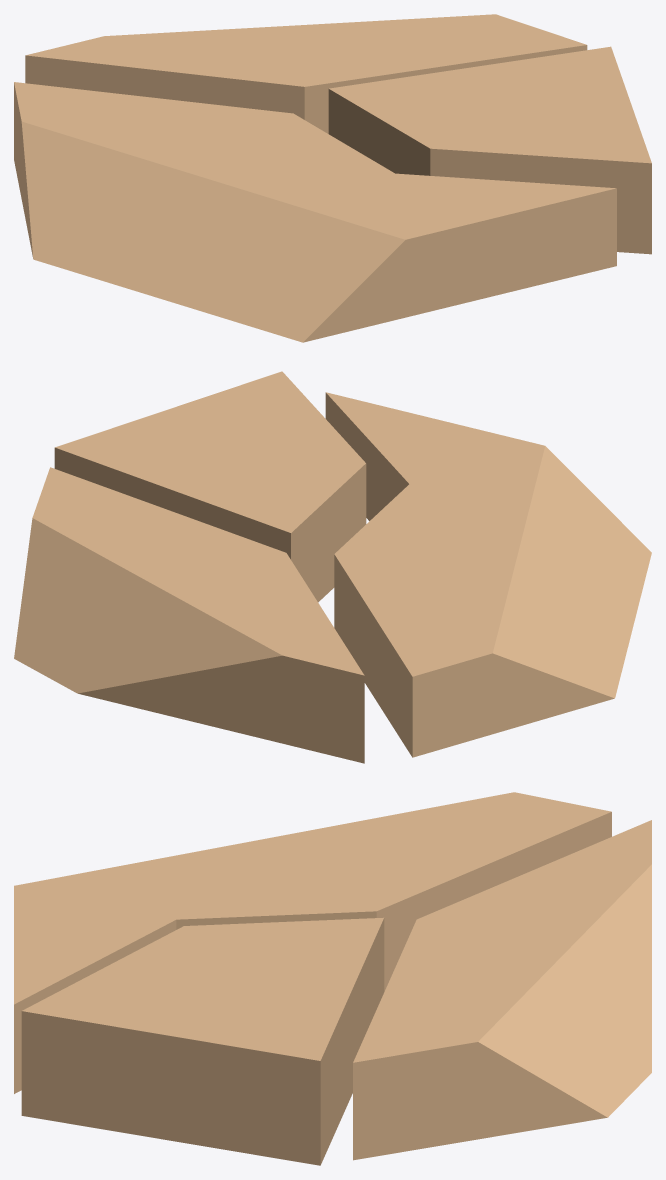
The model's file is Rock_Flat_crk_s_02.fbx.
3 renders of one model, top to bottom at view 1: azimuth 30°, elevation 25°; view 2: azimuth 150°, elevation 25°; view 3: azimuth 270°, elevation 25°, orthographic. The views are drawn at different scales.
Parts seen in each view (by area): view 1: Rock_Flat_crk_s_02; view 2: Rock_Flat_crk_s_02; view 3: Rock_Flat_crk_s_02.
Boxes of the visible parts, x1=… form: Rock_Flat_crk_s_02: x1=14, y1=14, x2=651, y2=342; Rock_Flat_crk_s_02: x1=14, y1=371, x2=651, y2=763; Rock_Flat_crk_s_02: x1=14, y1=792, x2=651, y2=1165.
Bounding box in the file's own units: 78.85 × 12.27 × 67.75.
